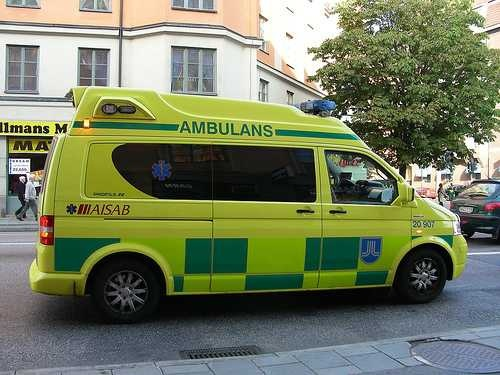Ambulance: (28, 83, 484, 304)
